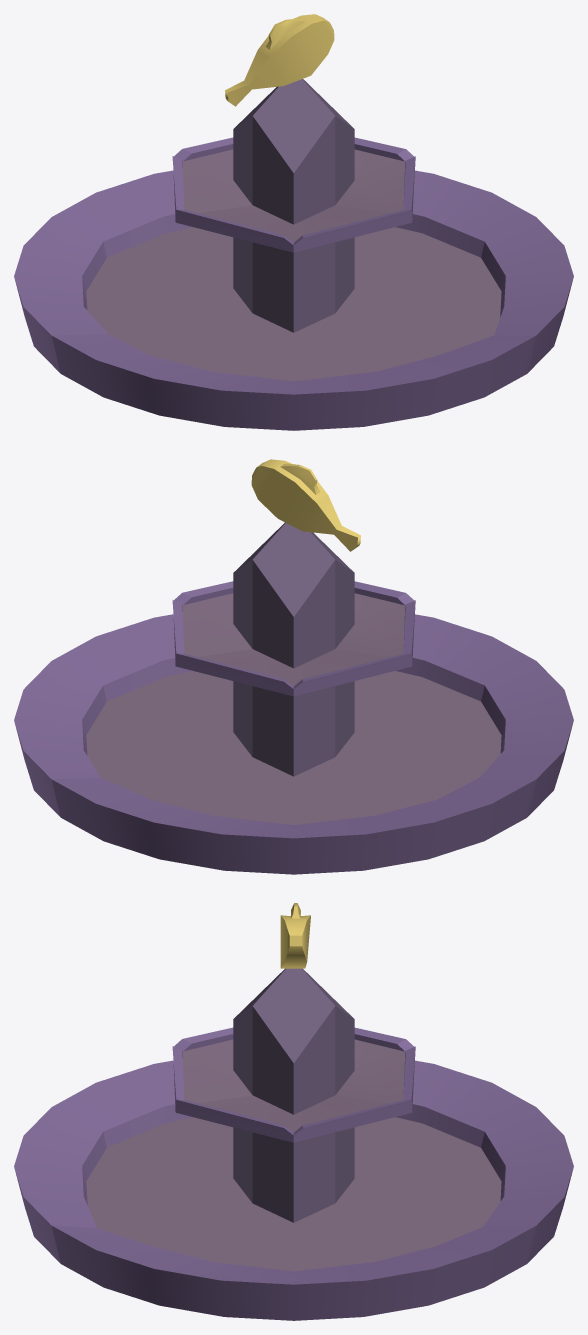
Rendered from FP_City_Fountain.fbx.
The picture shows the model from 3 angles, top to bottom: view 1: azimuth 30°, elevation 25°; view 2: azimuth 150°, elevation 25°; view 3: azimuth 270°, elevation 25°; orthographic projection.
Parts seen in each view (by area): view 1: pDisc5, pCube1; view 2: pDisc5, pCube1; view 3: pDisc5, pCube1.
Boxes of the visible parts, x1,y1,x2,y2 form: pDisc5: (14, 79, 573, 430); pCube1: (225, 14, 334, 106); pDisc5: (14, 522, 573, 874); pCube1: (251, 459, 360, 551); pDisc5: (14, 968, 573, 1320); pCube1: (280, 903, 310, 968).
Bounding box in the file's own units: 16.18 × 9.48 × 16.18.
